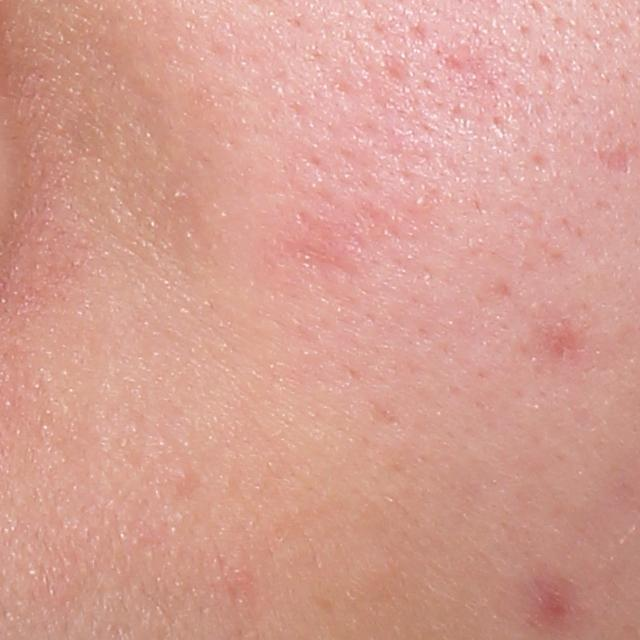atrophic_scar: (277, 237, 349, 269), (601, 141, 633, 176)
comedo: (408, 191, 429, 213), (174, 465, 194, 483)
